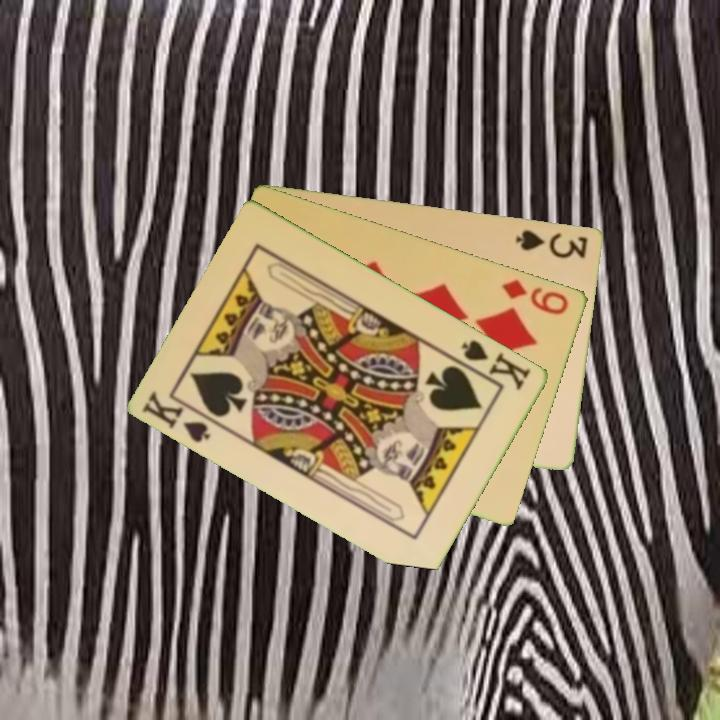3s: (512, 226, 591, 261)
9d: (499, 275, 572, 318)
Ks: (139, 387, 224, 446), (453, 336, 534, 393)
